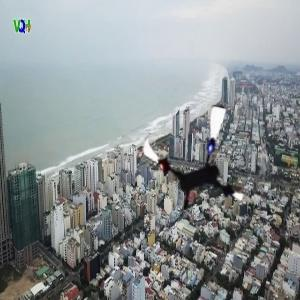drone: (139, 99, 263, 223)
